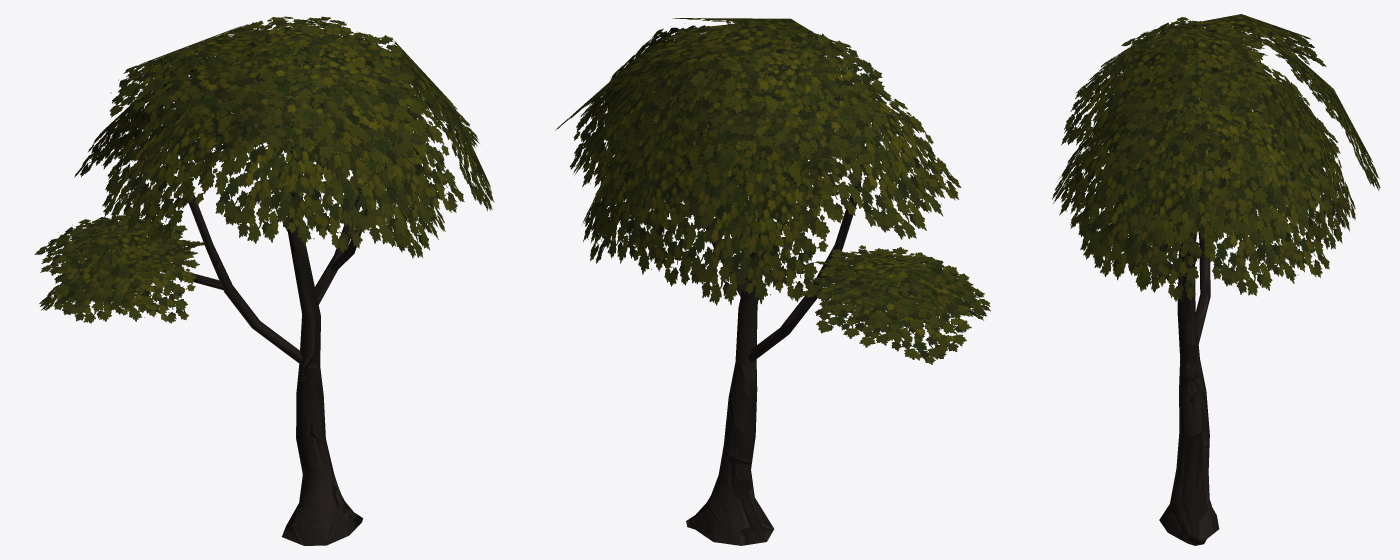
Rendered from fanasty_mod_leaftree03.fbx.
The picture shows the model from 3 angles, left to right: view 1: azimuth 30°, elevation 25°; view 2: azimuth 150°, elevation 25°; view 3: azimuth 270°, elevation 25°; orthographic projection. The views are drawn at different scales.
Parts seen in each view (by area): view 1: leaftree_03; view 2: leaftree_03; view 3: leaftree_03.
Part boxes in pixels (bbox=[...]): leaftree_03: bbox=[34, 16, 494, 545]; leaftree_03: bbox=[555, 18, 990, 545]; leaftree_03: bbox=[1052, 14, 1380, 545].
Size of the model in its own units: 6.15 by 6.66 by 4.41.
